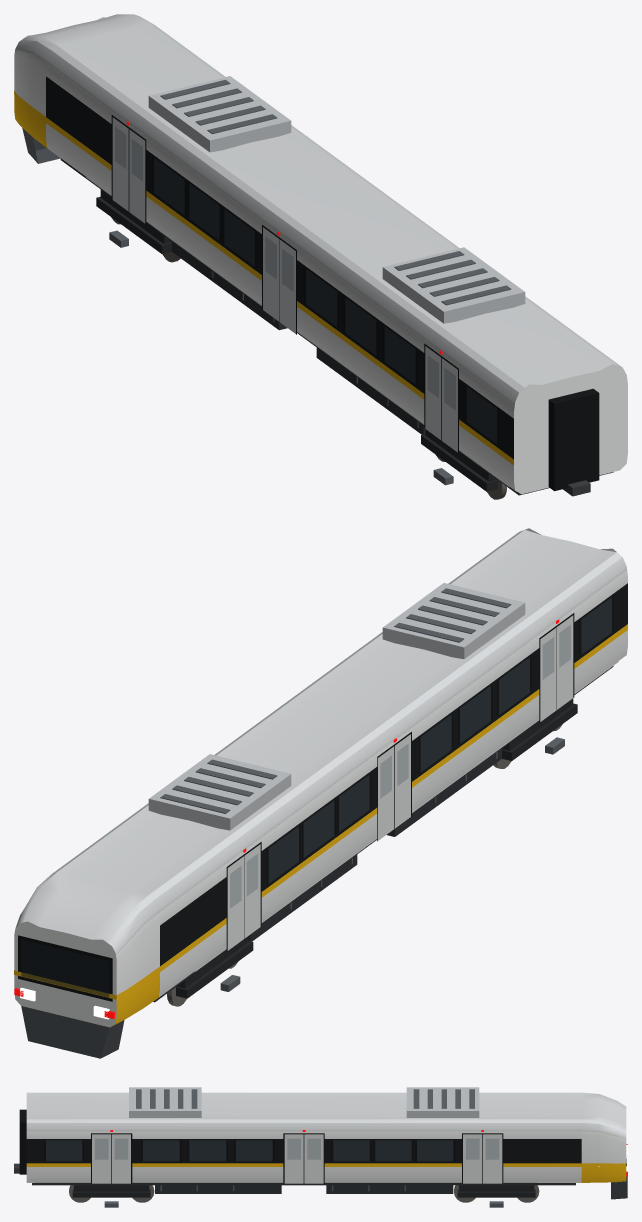
File: circular-line-lead.glb
3 renders of one model, top to bottom at view 1: azimuth 30°, elevation 25°; view 2: azimuth 150°, elevation 25°; view 3: azimuth 270°, elevation 25°, orthographic. The views are drawn at different scales.
Visible parts, largest first — view 1: CircularLine_Lead; view 2: CircularLine_Lead; view 3: CircularLine_Lead.
Part boxes in pixels (x1,y1,x2,y2): CircularLine_Lead: (14,14,627,499); CircularLine_Lead: (14,528,627,1058); CircularLine_Lead: (14,1087,627,1207).
Bounding box in the file's own units: 2.94 × 3.74 × 22.01.
